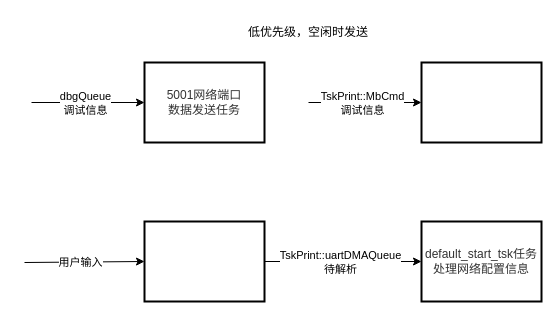
Image size: 560x319. Some labels were removed from this diagram. The shapes that lost their labels are listed below. From the top down, each one's box as (x1, y1, x2, y2) in pixels, then its label:
(420, 61, 542, 143): 串口 数据发送任务
(143, 220, 265, 302): 串口接收回调函数
